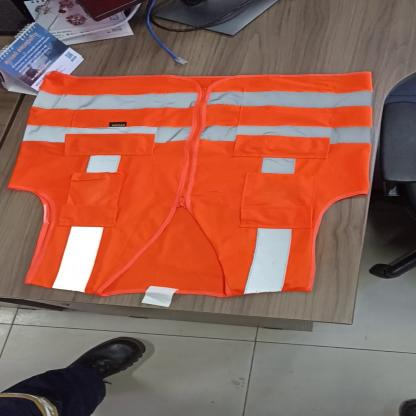colete: (6, 67, 376, 296)
